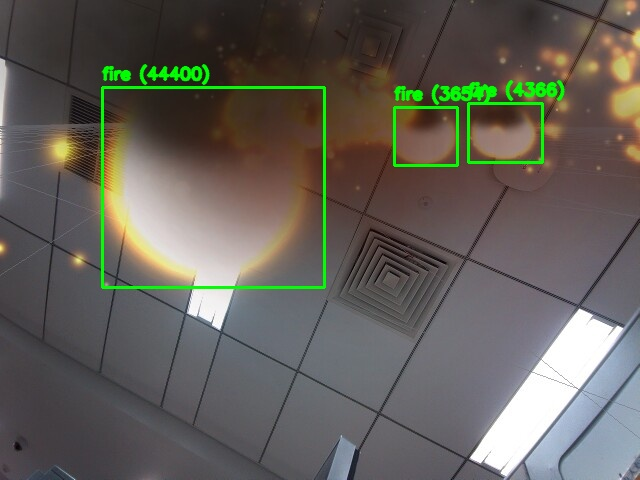fire: (102, 87, 324, 287), (468, 103, 542, 162), (394, 107, 457, 165)
